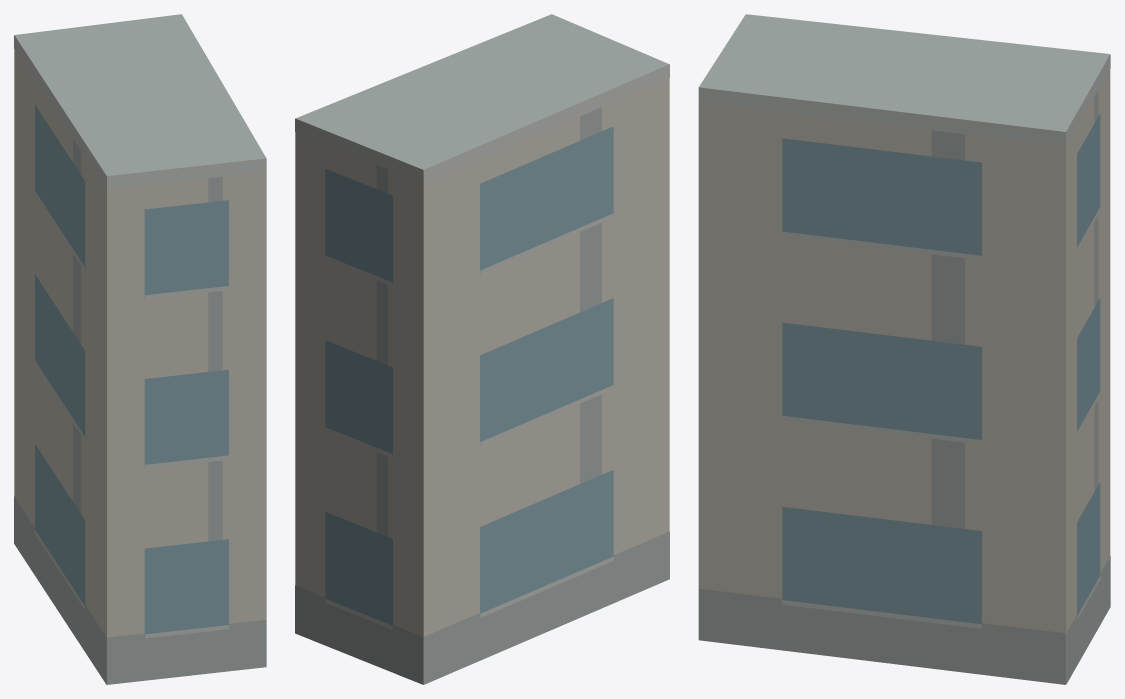
File: survey-upis-32733577.glb
3 views of the same model, side by side, from view 1: azimuth 30°, elevation 25°; view 2: azimuth 150°, elevation 25°; view 3: azimuth 270°, elevation 25° (orthographic). The views are drawn at different scales.
Parts seen in each view (by area): view 1: survey-upis-32733577.tmp; view 2: survey-upis-32733577.tmp; view 3: survey-upis-32733577.tmp.
Part boxes in pixels (x1,y1,x2,y2): survey-upis-32733577.tmp: (14, 14, 266, 684); survey-upis-32733577.tmp: (295, 14, 669, 684); survey-upis-32733577.tmp: (698, 14, 1110, 684).
Size of the model in its own units: 4.2 by 9.15 by 6.19.
